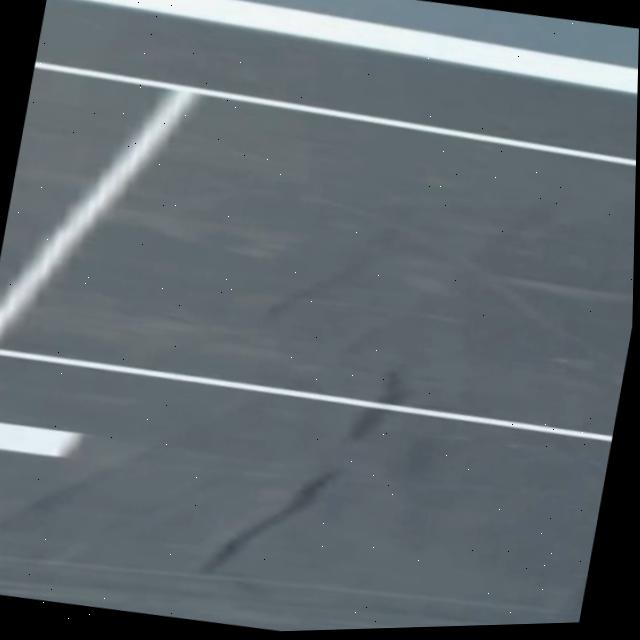center: (0, 422, 85, 456)
left: (92, 0, 638, 93)
